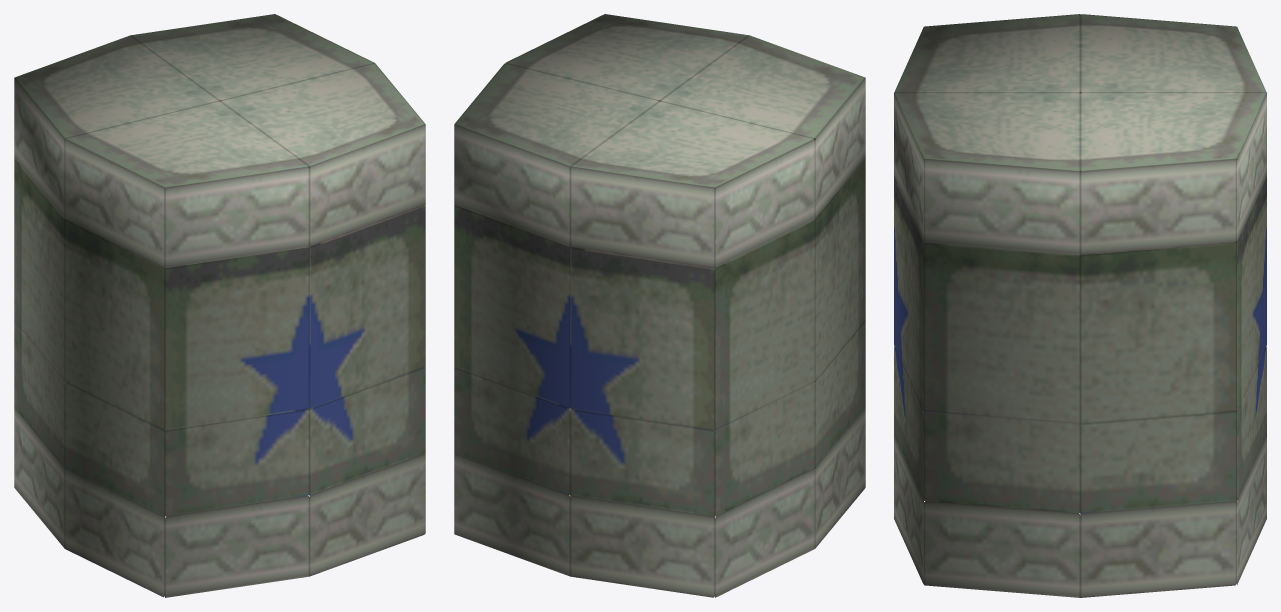
3 views of the same model, side by side, from view 1: azimuth 30°, elevation 25°; view 2: azimuth 150°, elevation 25°; view 3: azimuth 270°, elevation 25° (orthographic). The views are drawn at different scales.
Parts seen in each view (by area): view 1: T1L2M001_6; view 2: T1L2M001_6; view 3: T1L2M001_6.
Boxes of the visible parts, <box> form: T1L2M001_6: <box>14,14,425,597</box>; T1L2M001_6: <box>454,14,865,597</box>; T1L2M001_6: <box>894,14,1266,597</box>.
Size of the model in its own units: 1.77 by 2.24 by 1.77.
